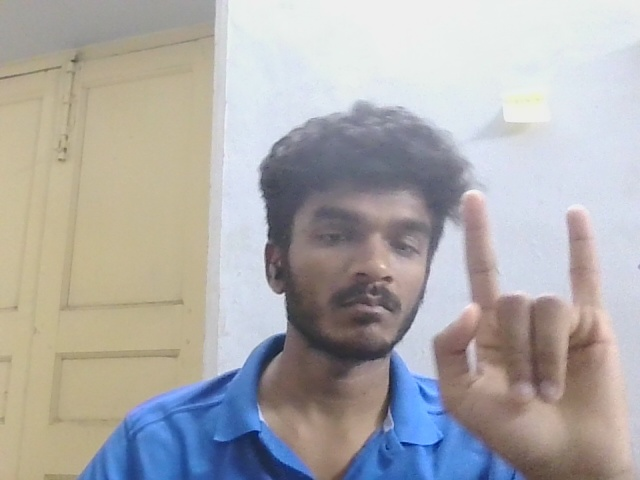Iloveyou: (392, 182, 637, 454)
